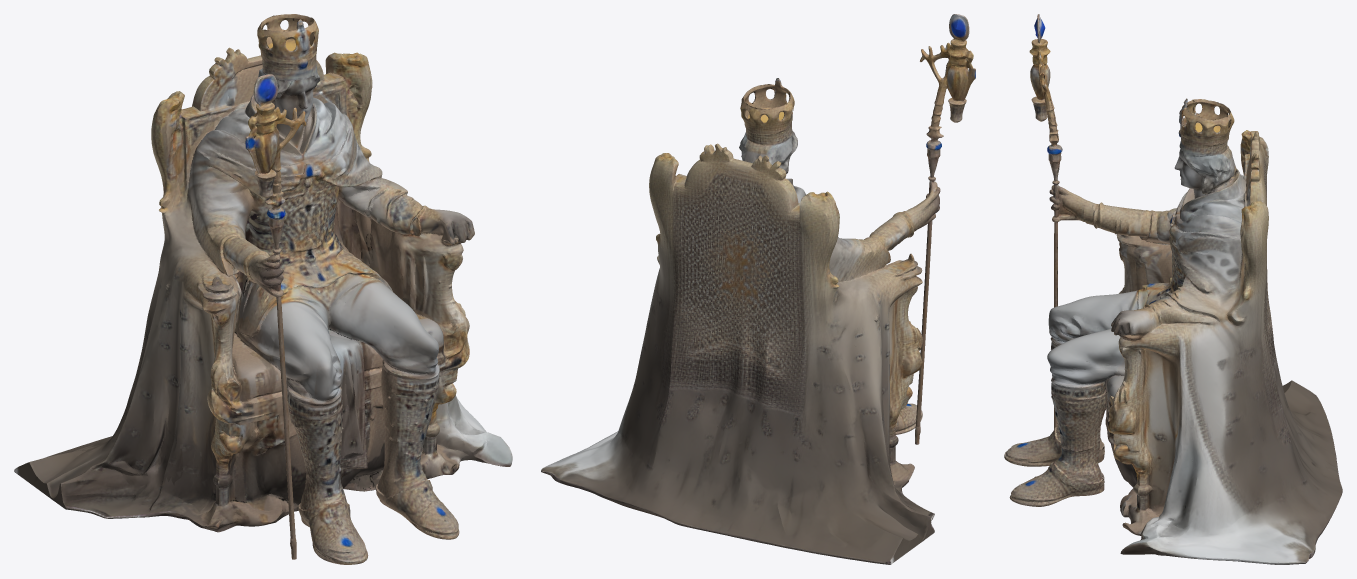
The model's file is king_white.glb.
3 views of the same model, side by side, from view 1: azimuth 30°, elevation 25°; view 2: azimuth 150°, elevation 25°; view 3: azimuth 270°, elevation 25° (orthographic). The views are drawn at different scales.
Visible parts, largest first — view 1: model; view 2: model; view 3: model.
Boxes of the visible parts, bbox=[...] form: model: bbox=[14, 14, 512, 564]; model: bbox=[541, 14, 975, 564]; model: bbox=[1004, 14, 1342, 564].
Bounding box in the file's own units: 1.64 × 1.9 × 1.39.
Materials: 1 (1 with a texture image).
